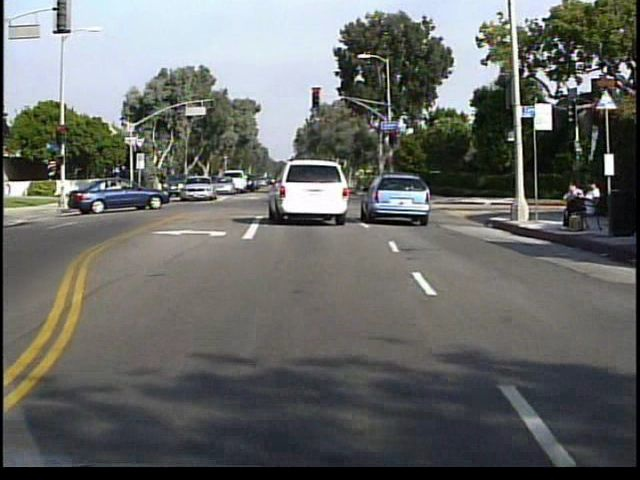person: (559, 179, 586, 232), (580, 179, 604, 234)
